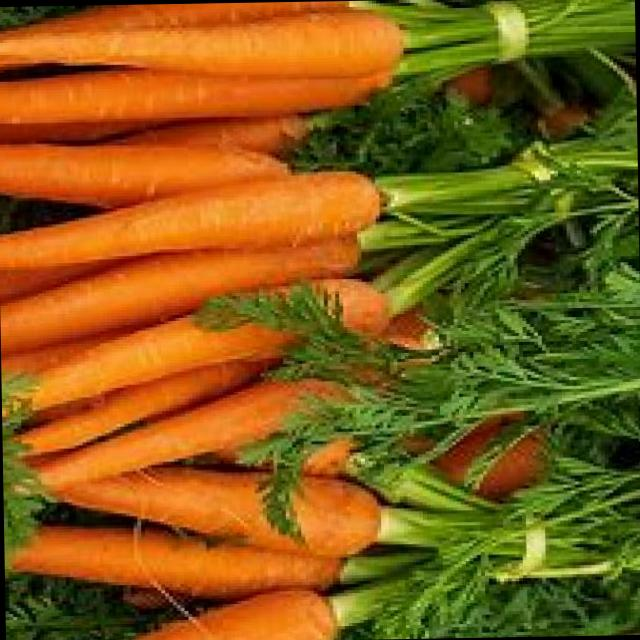carrot: (0, 169, 385, 269), (3, 0, 403, 84)
